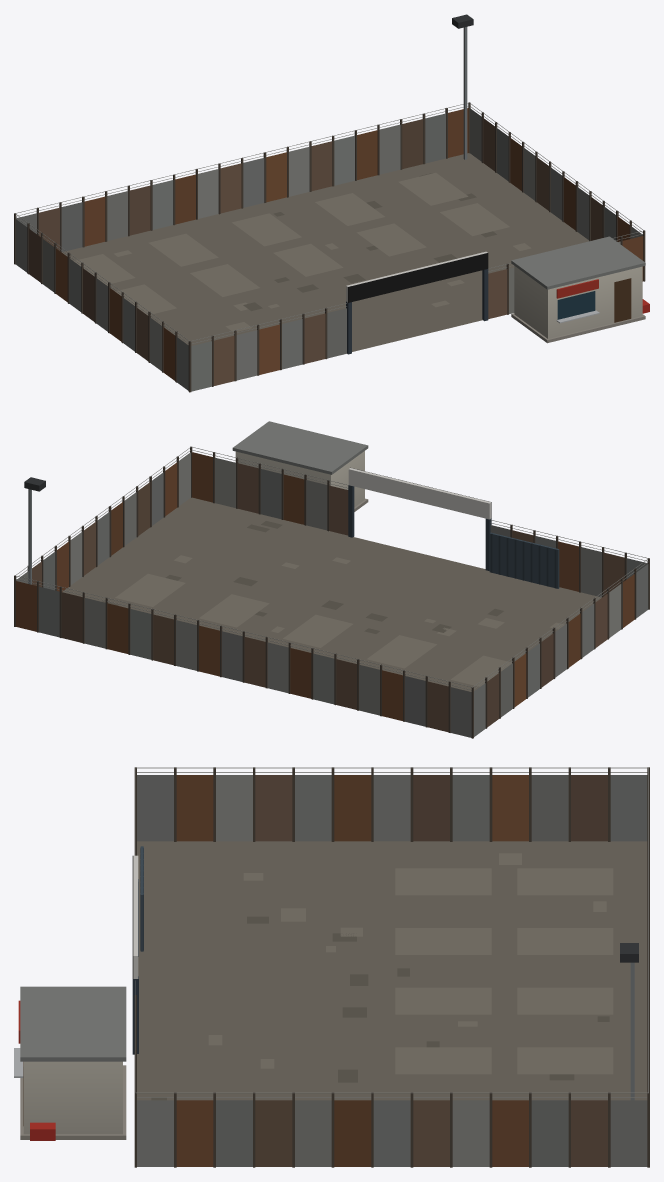
The model's file is ns_impound.glb.
The picture shows the model from 3 angles, top to bottom: view 1: azimuth 30°, elevation 25°; view 2: azimuth 150°, elevation 25°; view 3: azimuth 270°, elevation 25°; orthographic projection. The views are drawn at different scales.
Visible parts, largest first — view 1: ns_impound; view 2: ns_impound; view 3: ns_impound.
Part boxes in pixels (<box>): ns_impound: <box>14,14,649,392</box>; ns_impound: <box>14,421,649,738</box>; ns_impound: <box>14,767,649,1167</box>.
Size of the model in its own units: 24.08 by 7.2 by 19.84.
